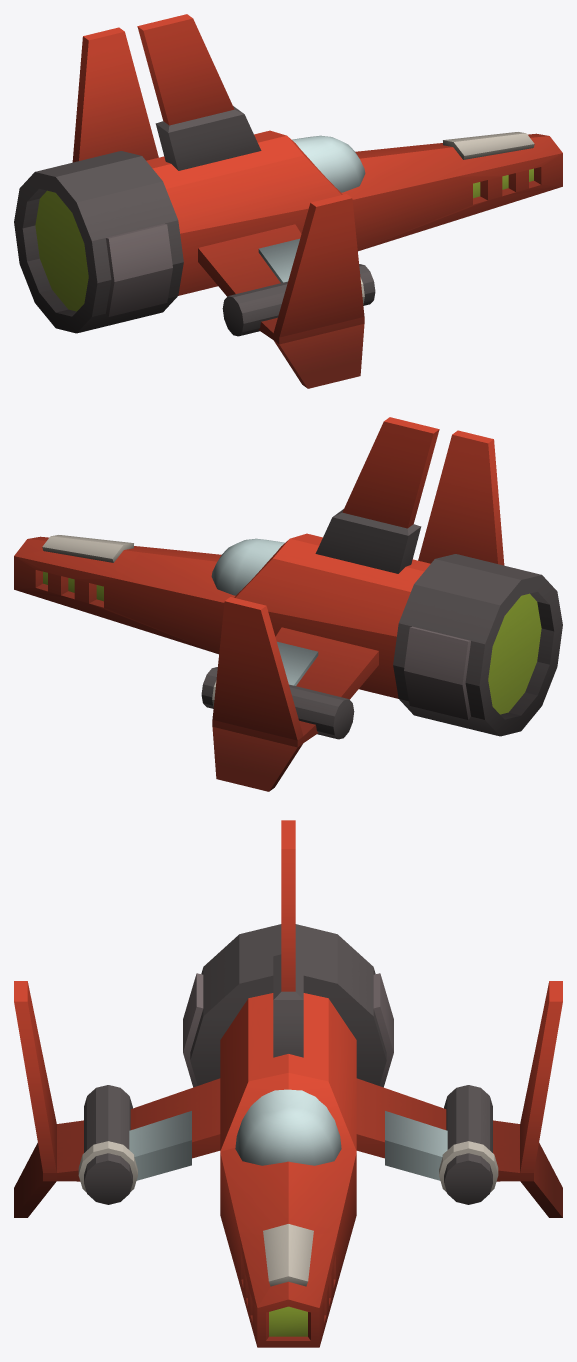
Rendered from Jet_1.fbx.
3 views of the same model, one above another, from view 1: azimuth 30°, elevation 25°; view 2: azimuth 150°, elevation 25°; view 3: azimuth 270°, elevation 25° (orthographic). The views are drawn at different scales.
Parts seen in each view (by area): view 1: Jet_1; view 2: Jet_1; view 3: Jet_1.
Boxes of the visible parts, x1,y1,x2,y2 form: Jet_1: (14, 14, 562, 388); Jet_1: (14, 417, 562, 791); Jet_1: (14, 820, 562, 1347).
Bounding box in the file's own units: 459 × 256 × 376.
1 material, 1 textured.
